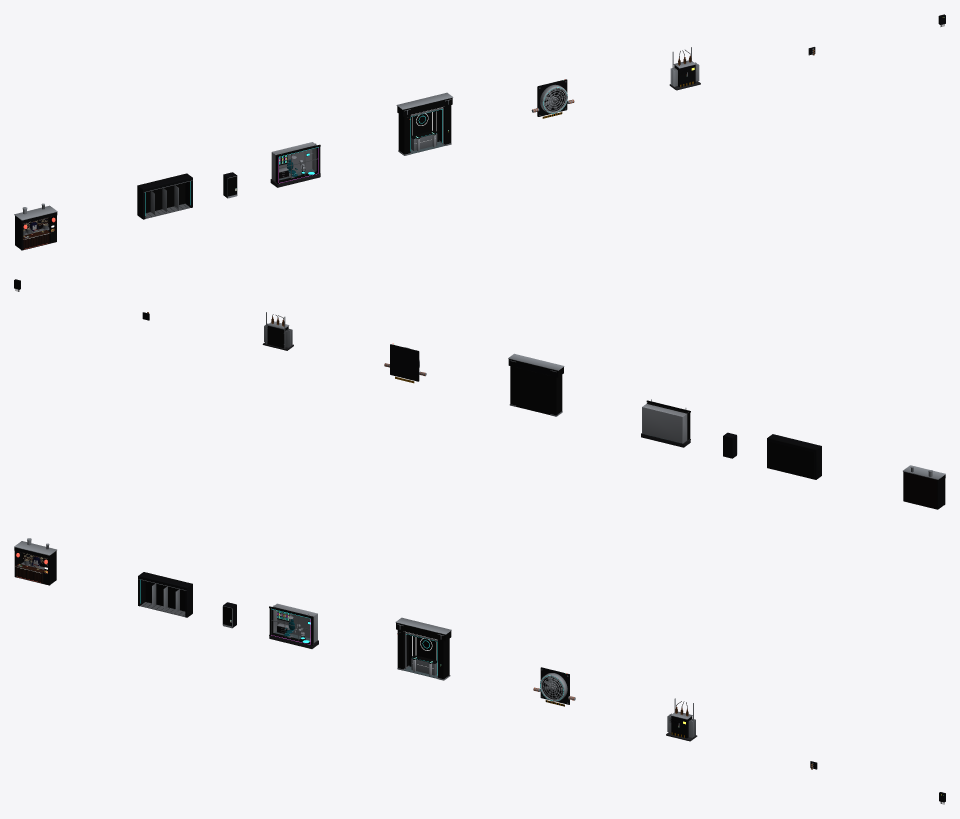
Rendered from detail343.glb.
3 views of the same model, one above another, from view 1: azimuth 30°, elevation 25°; view 2: azimuth 150°, elevation 25°; view 3: azimuth 330°, elevation 25° (orthographic).
Visible parts, largest first — view 1: gate_basalt, vend_dark, gate_steel, clinic_white, ramen_dark, vend_black, gate_black, vend_steel, fan_dark, clinic_black, ramen_steel; view 2: clinic_white, gate_black, vend_black, gate_basalt, ramen_wooddk, fan_dark, vend_dark; view 3: gate_basalt, vend_dark, gate_steel, ramen_dark, clinic_white, vend_black, gate_black, vend_steel, fan_dark.
Boxes of the visible parts, bbox=[...] form: gate_basalt: bbox=[397, 98, 452, 154]; vend_dark: bbox=[137, 173, 192, 219]; gate_steel: bbox=[396, 92, 453, 155]; clinic_white: bbox=[271, 142, 316, 181]; ramen_dark: bbox=[15, 212, 57, 250]; vend_black: bbox=[140, 174, 185, 212]; gate_black: bbox=[408, 108, 448, 141]; vend_steel: bbox=[144, 180, 192, 218]; fan_dark: bbox=[537, 79, 567, 116]; clinic_black: bbox=[275, 144, 320, 184]; ramen_steel: bbox=[14, 203, 57, 239]; clinic_white: bbox=[642, 403, 688, 443]; gate_black: bbox=[516, 367, 550, 414]; vend_black: bbox=[769, 438, 814, 479]; gate_basalt: bbox=[508, 359, 563, 415]; ramen_wooddk: bbox=[904, 472, 937, 509]; fan_dark: bbox=[390, 344, 419, 381]; vend_dark: bbox=[767, 434, 821, 479]; gate_basalt: bbox=[396, 622, 451, 678]; vend_dark: bbox=[138, 572, 192, 617]; gate_steel: bbox=[395, 617, 451, 680]; ramen_dark: bbox=[14, 547, 56, 585]; clinic_white: bbox=[271, 603, 317, 642]; vend_black: bbox=[145, 572, 189, 611]; gate_black: bbox=[397, 632, 441, 667]; vend_steel: bbox=[138, 579, 186, 616]; fan_dark: bbox=[540, 667, 569, 704].
Bounding box in the file's own units: 85.94 × 4.77 × 1.44.
